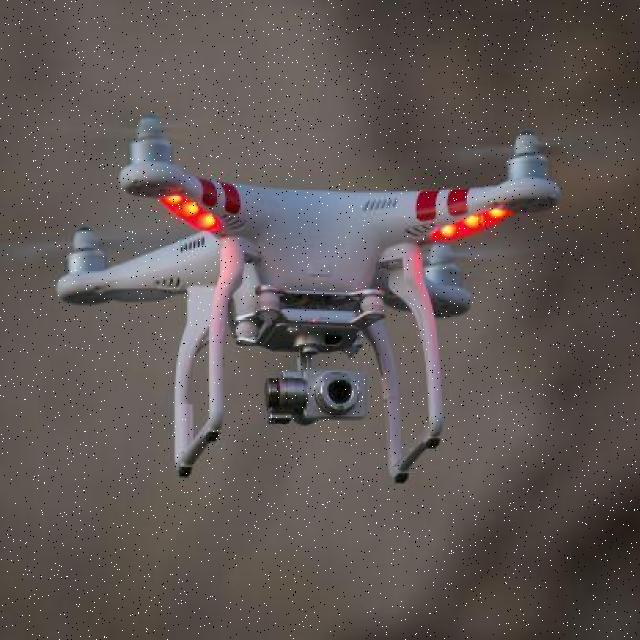UAV: (50, 119, 568, 490)
